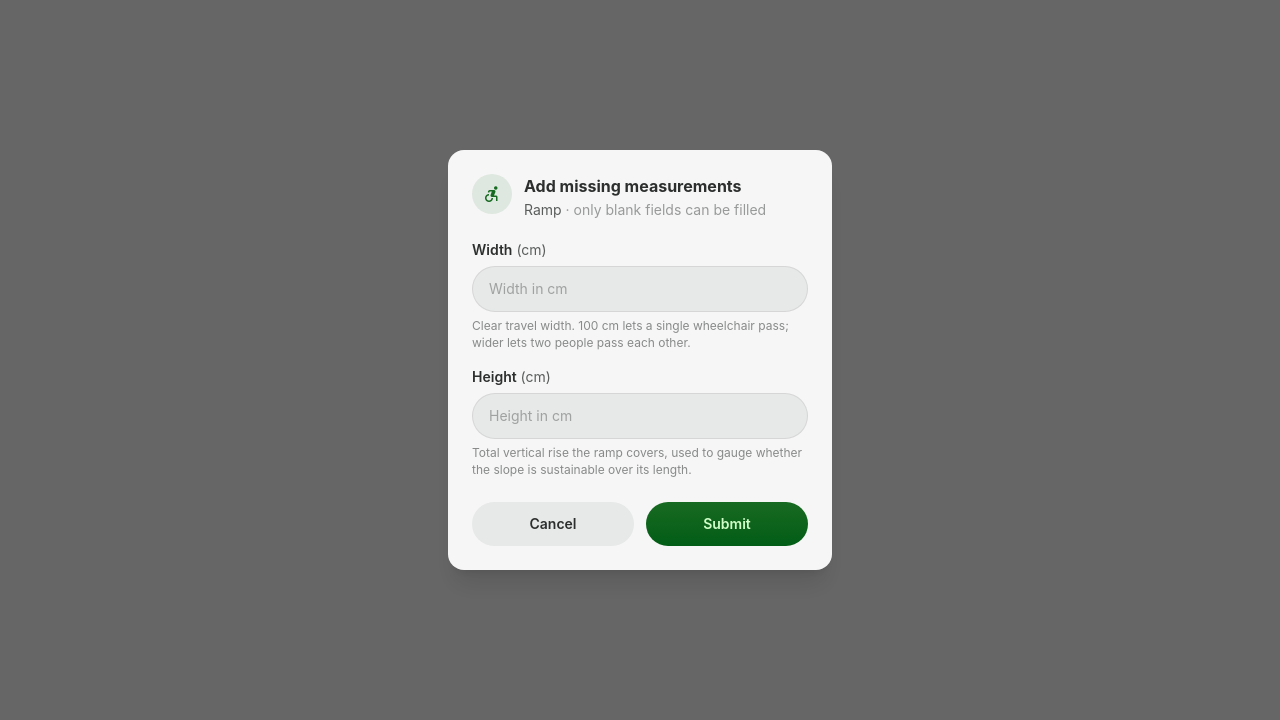
Scenario: ContributeMeasurementsPanel › error handling › displays the backend error message when the API rejects
Type "120" into the number field with placeholder "Width in cm" at [640, 289], box top-left (472, 266), bottom-right (808, 312)
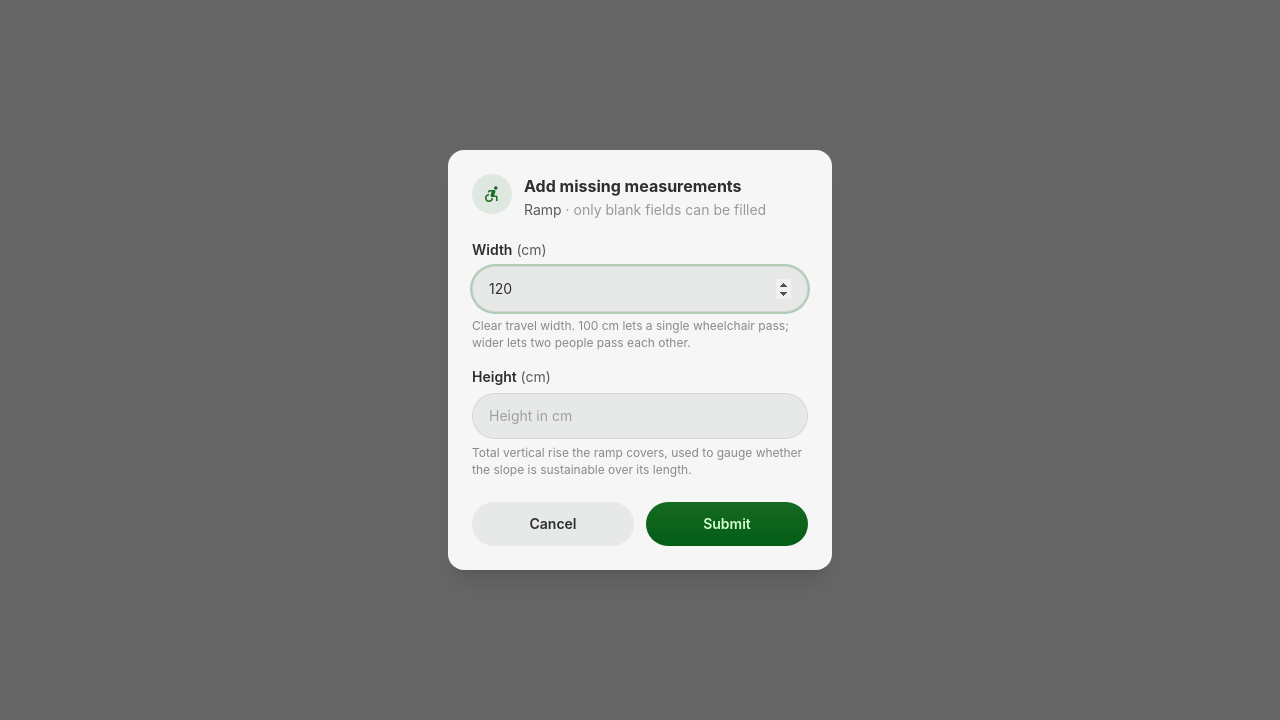
Click the button "Submit" at [727, 524], box top-left (646, 502), bottom-right (808, 546)
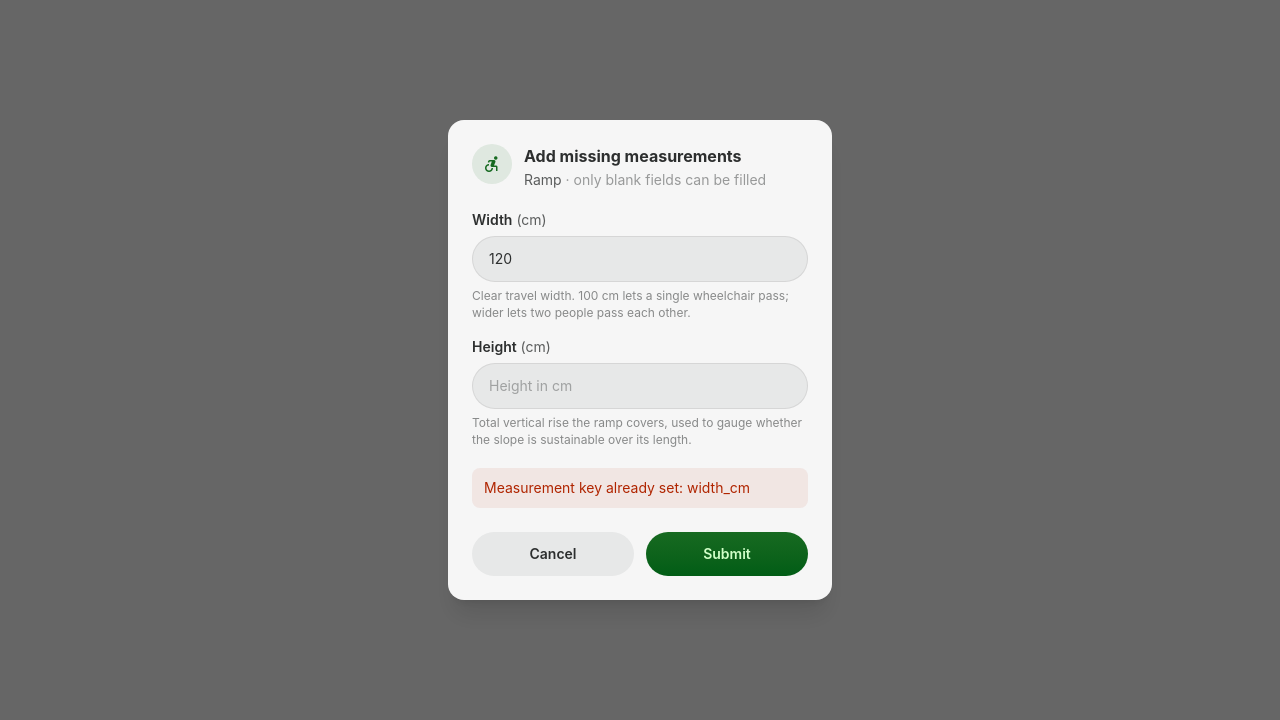
Expected: the message "Measurement key already set: width_cm" is shown, top-left (472, 468), bottom-right (808, 508)
Expected: the message shows "Measurement key already set", top-left (484, 479), bottom-right (750, 496)
